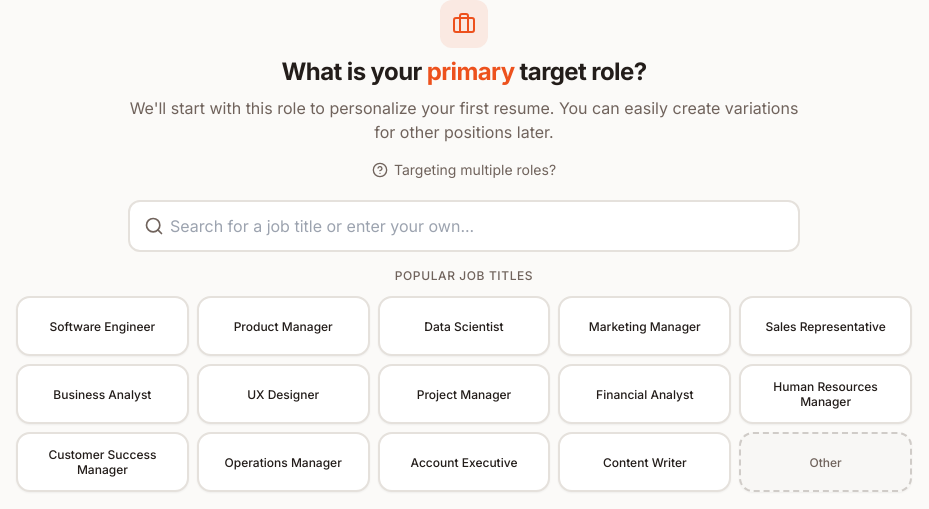
JobTitleStep › shows no results message when search has no matches
Type "xyz123" into the field with placeholder "Search for a job title or enter your own...".
click(464, 226); type("xyz123")  # box [128,200,800,252]
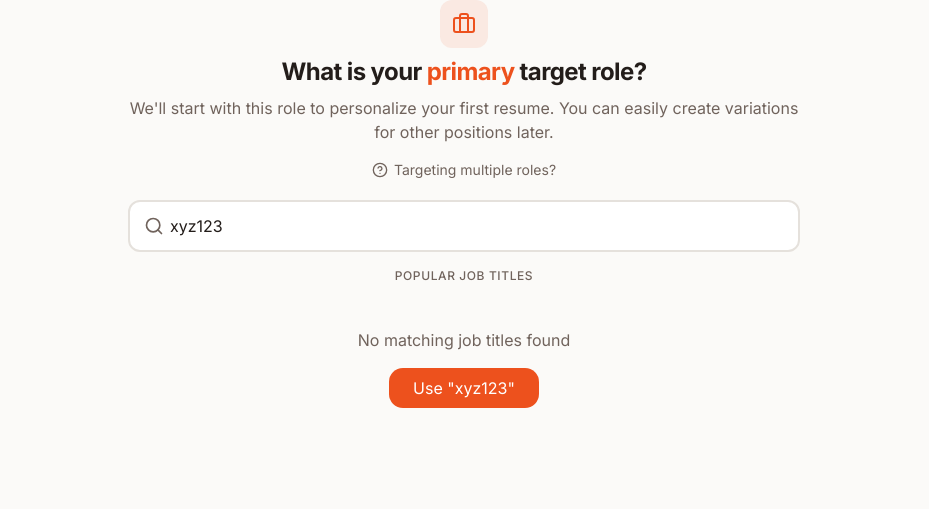
Now the text "No matching job titles found" is shown, box [358,330,570,350]
